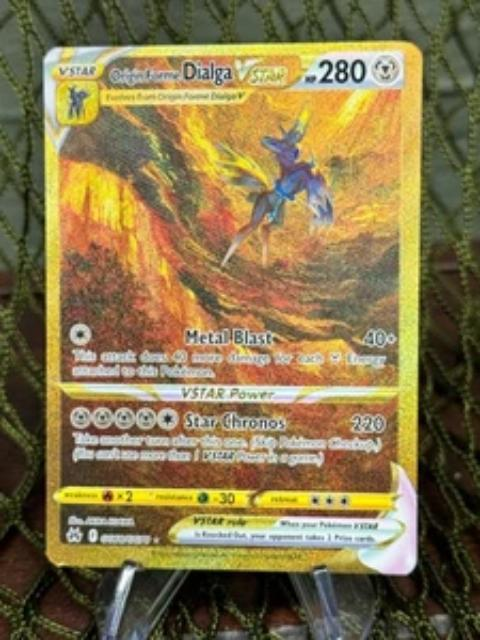Card: (39, 35, 428, 581)
Name: (105, 55, 295, 91)
